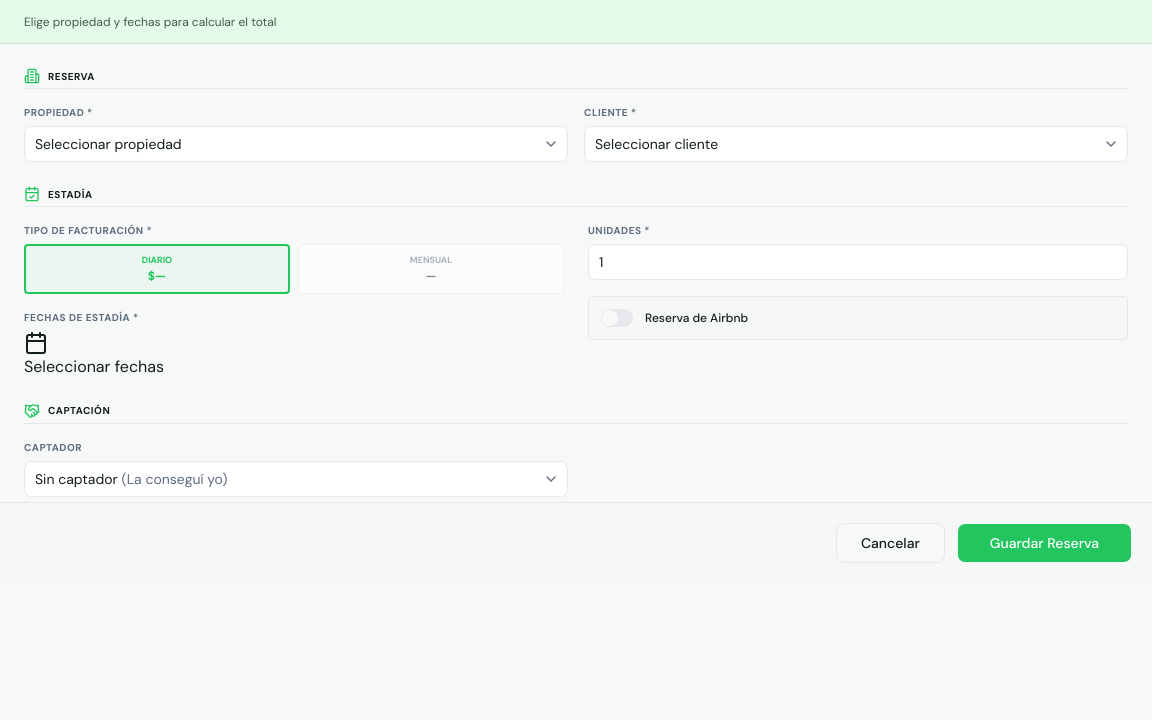
ReservationForm — Captación › elegir un captador precarga su porcentaje y muestra el campo
The width and height of the screenshot is (1152, 720).
Expected: the heading "Captación" is shown, [48, 403, 110, 418]
Click the button "Sin captador (La conseguí yo)" at x=76, y=478, box [24, 460, 568, 496]
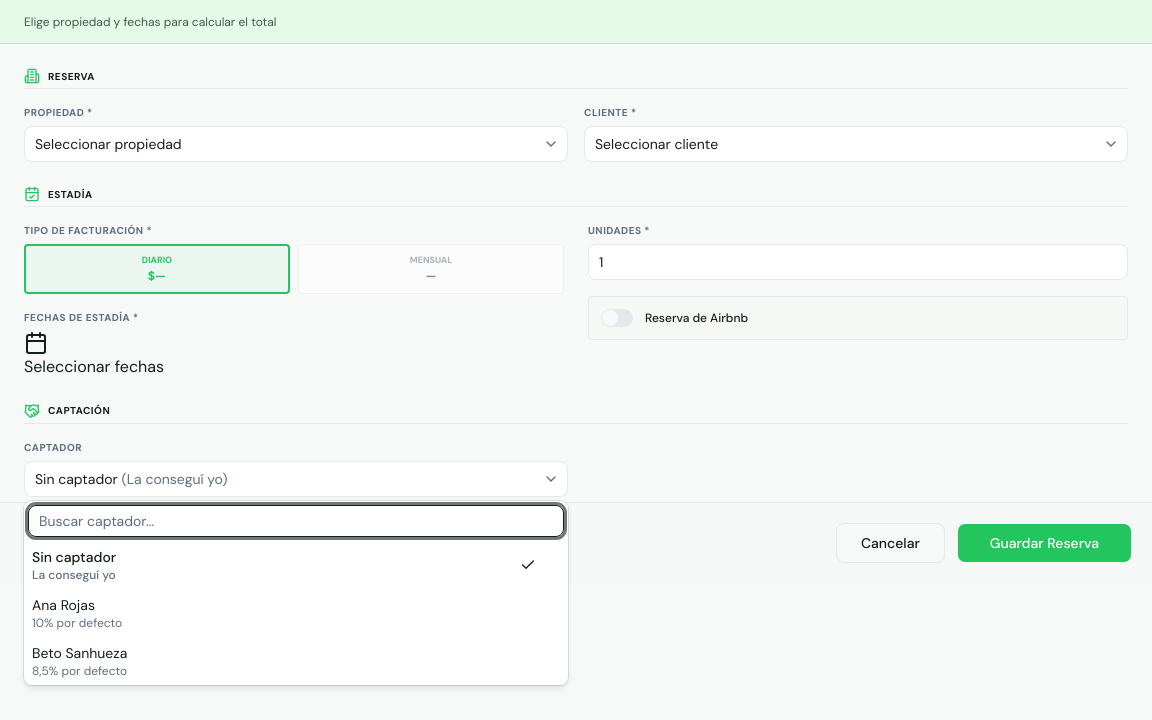
Click the text "Beto Sanhueza" at x=80, y=653, box [32, 644, 127, 662]
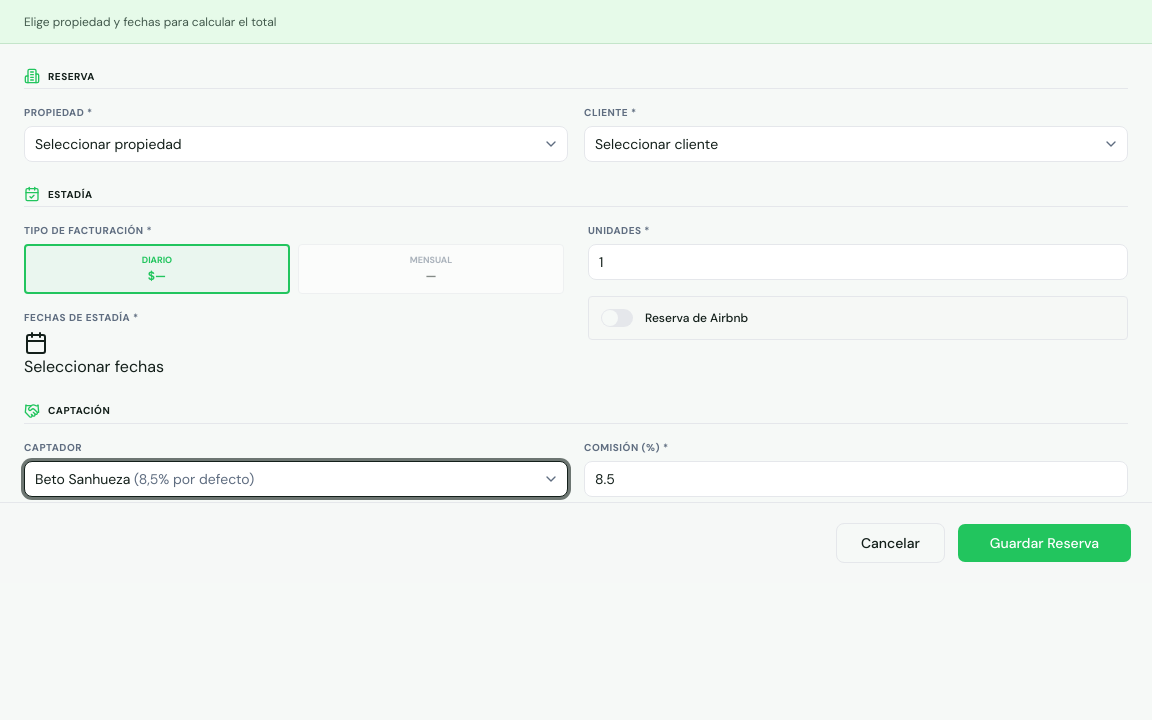
Now the number field labelled "Comisión (%) *" holds "8.5", box [584, 460, 1128, 496]
